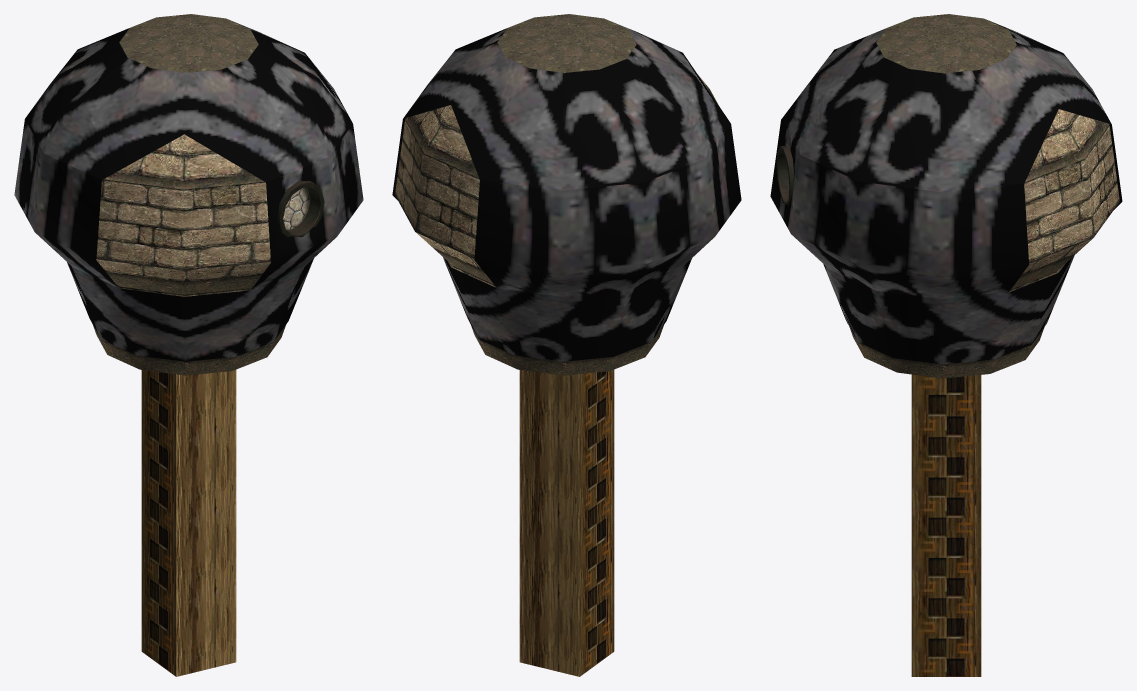
The model's file is tower_lever.dae.
3 renders of one model, left to right at view 1: azimuth 30°, elevation 25°; view 2: azimuth 150°, elevation 25°; view 3: azimuth 270°, elevation 25°, orthographic.
Parts seen in each view (by area): view 1: tower_lever; view 2: tower_lever; view 3: tower_lever.
Boxes of the visible parts, x1,y1,x2,y2 form: tower_lever: (14,14,363,676); tower_lever: (392,14,741,676); tower_lever: (770,14,1122,676).
Bounding box in the file's own units: 2.97 × 2.97 × 5.88.
3 materials, 3 textured.
